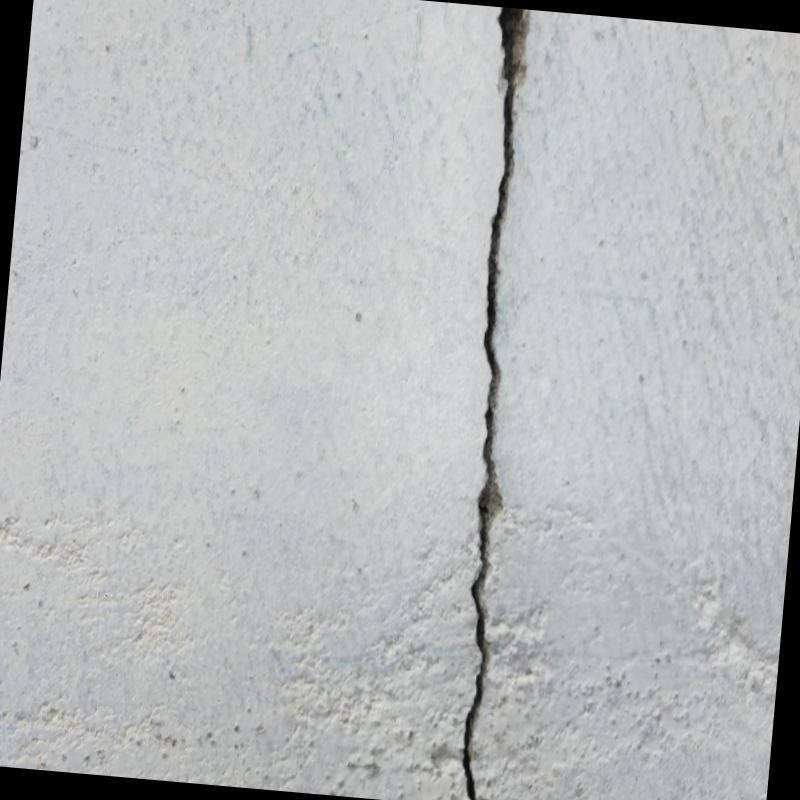pothole: (462, 8, 527, 800)
